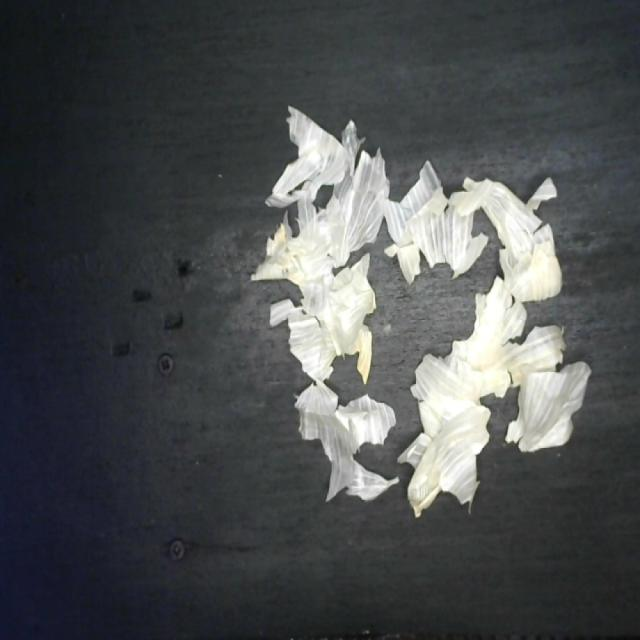biodegradable: (245, 101, 597, 520)
